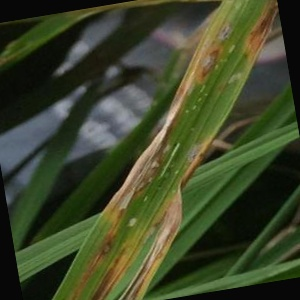Brown_Spot: (216, 17, 245, 44), (197, 49, 221, 81)
